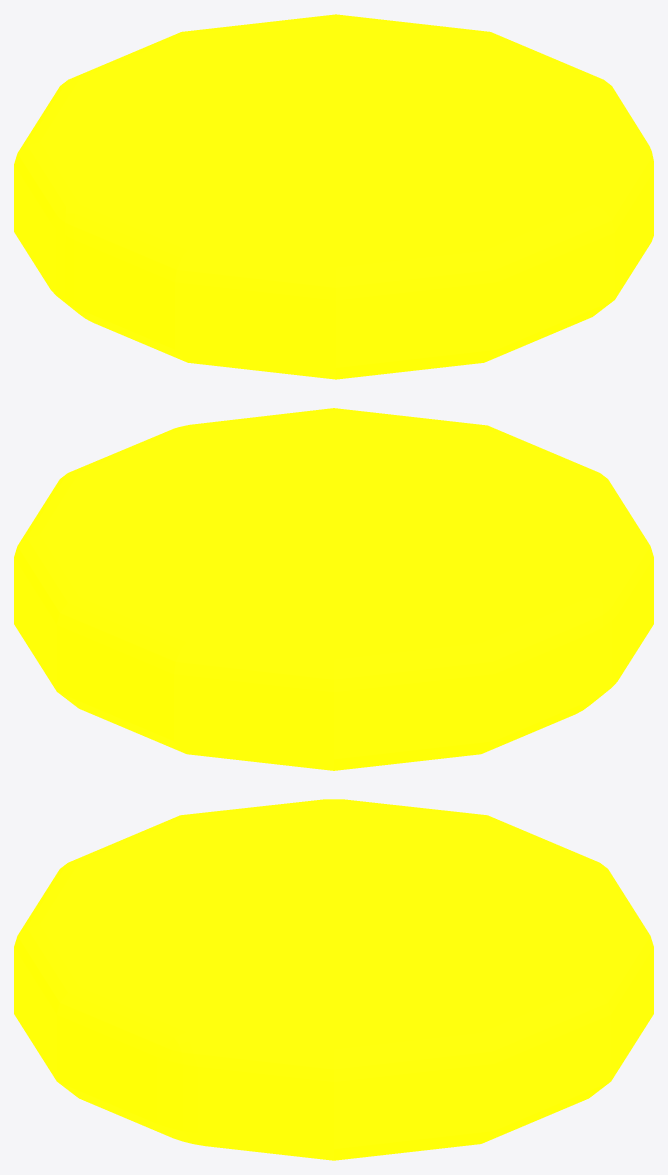
File: Collectible_SurgeToken.fbx
3 renders of one model, top to bottom at view 1: azimuth 30°, elevation 25°; view 2: azimuth 150°, elevation 25°; view 3: azimuth 270°, elevation 25°, orthographic.
Parts seen in each view (by area): view 1: SurgeToken; view 2: SurgeToken; view 3: SurgeToken.
Part boxes in pixels (x1,y1,x2,y2): SurgeToken: (14, 14, 653, 379); SurgeToken: (14, 408, 653, 770); SurgeToken: (14, 799, 653, 1160).
Size of the model in its own units: 0.2583 by 0.26 by 0.05.
